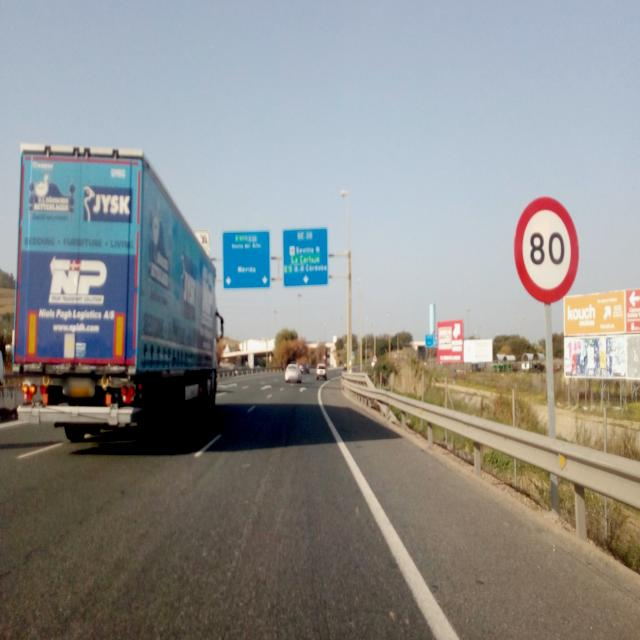car: (285, 362, 302, 384), (316, 362, 328, 380), (302, 362, 310, 374)
